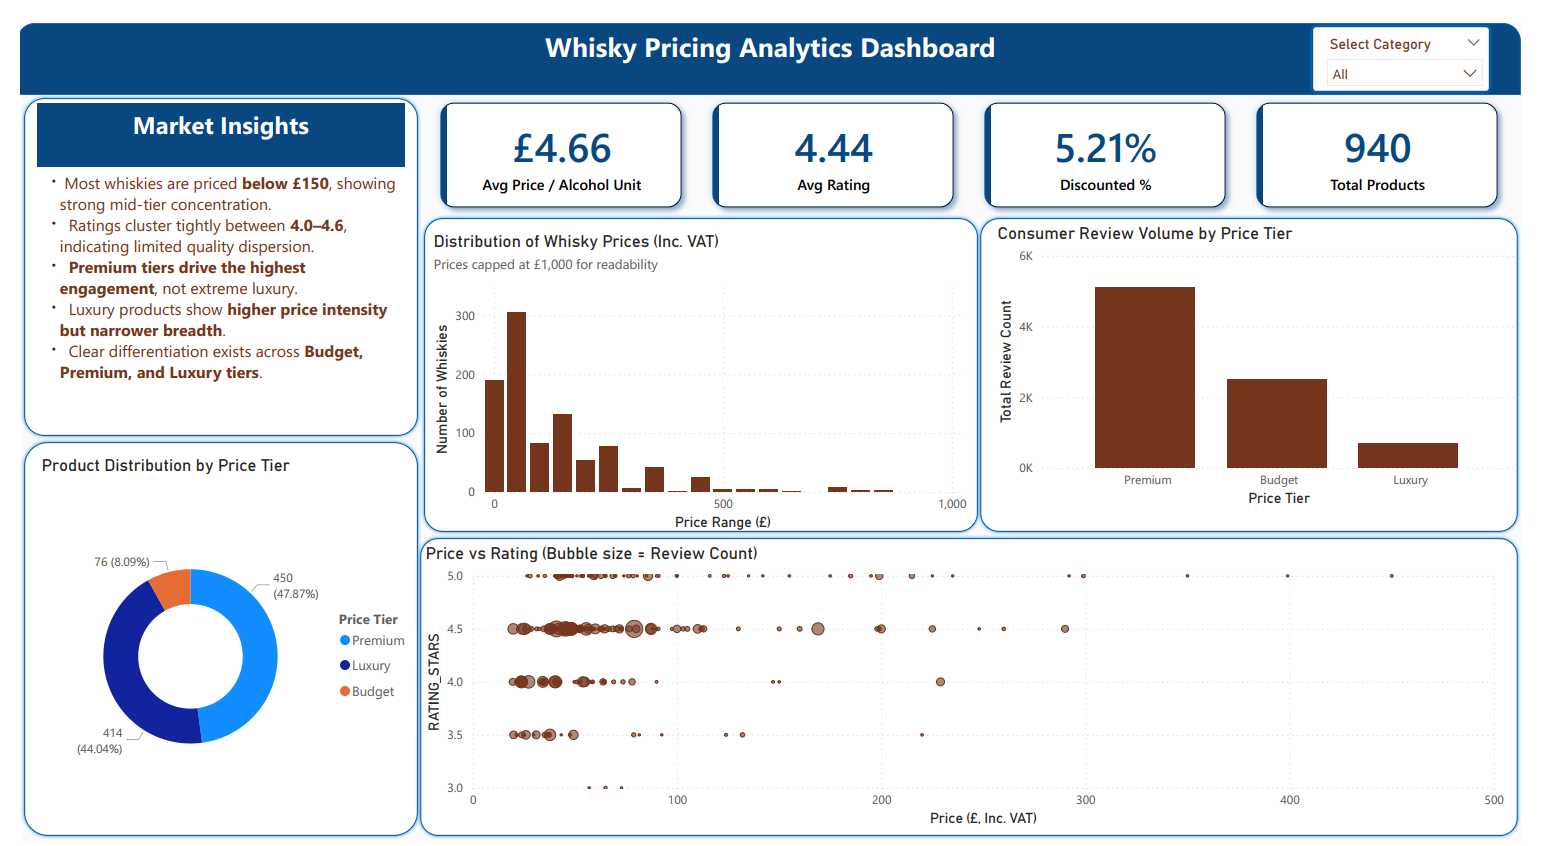

The page's visual inventory and layout, read from the dashboard file:
{"tool":"powerbi","page":{"name":"Market Overview & Price Positioning","canvas":[1500,820],"ordinal":0},"visuals":[{"type":"cardVisual","fields":{"Data":["_Measures.Avg Price (VAT)","_Measures.Avg Price / Alcohol Unit","_Measures.Avg Rating","_Measures.Discounted %","_Measures.Total Products"]},"box":[396,48,1104,160],"z":0},{"type":"shape","box":[-4,0,1504,64],"z":1000},{"type":"textbox","box":[512,0,480,48],"z":2000},{"type":"shape","box":[400,192,560,320],"z":3000},{"type":"shape","box":[956,192,544,320],"z":4000},{"type":"clusteredColumnChart","title":"Distribution of Whisky Prices (Inc. VAT)","fields":{"Category":["VW_PRODUCT_LATEST.Price (GBP) Bins"],"Y":["CountNonNull(VW_PRODUCT_LATEST.PRODUCT_ID)"]},"box":[416,208,544,304],"z":5000},{"type":"clusteredBarChart","title":"Average Whisky Price by Region","fields":{"Category":["VW_PRODUCT_LATEST.REGION"],"Y":["Sum(VW_PRODUCT_LATEST.PRICE_INC_VAT_GBP)"]},"box":[972,208,528,304],"z":6000},{"type":"shape","box":[396,512,1104,304],"z":7000},{"type":"scatterChart","title":"Price vs Rating (Bubble size = Review Count)","fields":{"X":["VW_PRODUCT_LATEST.PRICE_INC_VAT_GBP"],"Y":["VW_PRODUCT_LATEST.RATING_STARS"],"Size":["Sum(VW_PRODUCT_LATEST.REVIEW_COUNT)"]},"box":[400,520,1088,288],"z":8000},{"type":"shape","box":[0,64,400,352],"z":9000},{"type":"shape","box":[0,416,400,400],"z":10000},{"type":"textbox","box":[16,72,368,64],"z":11000},{"type":"textbox","box":[16,144,368,240],"z":12000},{"type":"donutChart","title":"Product Distribution by Price Tier","fields":{"Category":["VW_PRODUCT_LATEST.PRICE_TIER"],"Y":["CountNonNull(VW_PRODUCT_LATEST.PRODUCT_ID)"]},"box":[16,432,384,384],"z":13000}]}

Visuals, with their boxes in screenshot pixels (x1, y1, x2, y2), scaled from the page's 1500x820 canvas onto the 1543x846 screenshot:
cardVisual - _Measures.Avg Price (VAT) x _Measures.Avg Price / Alcohol Unit: <region>407, 50, 1542, 215</region>
shape: <region>0, 0, 1542, 66</region>
textbox: <region>527, 0, 1020, 50</region>
shape: <region>411, 198, 988, 528</region>
shape: <region>983, 198, 1542, 528</region>
"Distribution of Whisky Prices (Inc. VAT)" clusteredColumnChart: <region>428, 215, 988, 528</region>
"Average Whisky Price by Region" clusteredBarChart: <region>1000, 215, 1542, 528</region>
shape: <region>407, 528, 1542, 842</region>
"Price vs Rating (Bubble size = Review Count)" scatterChart: <region>411, 536, 1531, 834</region>
shape: <region>0, 66, 411, 429</region>
shape: <region>0, 429, 411, 842</region>
textbox: <region>16, 74, 395, 140</region>
textbox: <region>16, 149, 395, 396</region>
"Product Distribution by Price Tier" donutChart: <region>16, 446, 411, 842</region>
